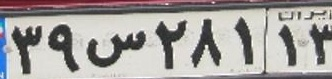character: (82, 20, 151, 73), (186, 13, 226, 73), (7, 20, 47, 79), (225, 14, 264, 73), (152, 15, 190, 73), (45, 20, 83, 77), (270, 21, 304, 71), (306, 19, 332, 70)
